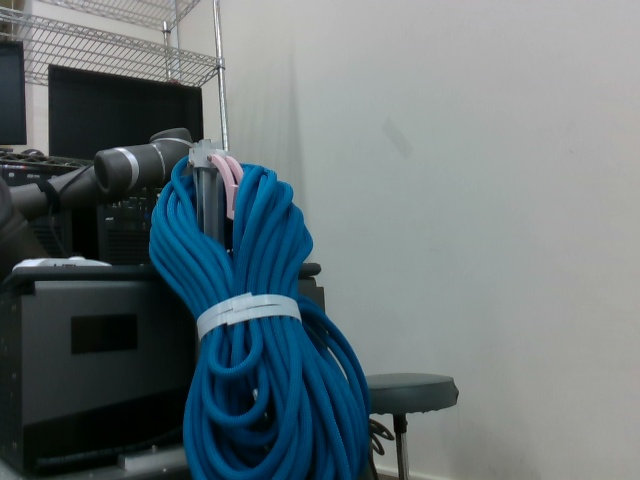rope: (151, 142, 371, 480)
